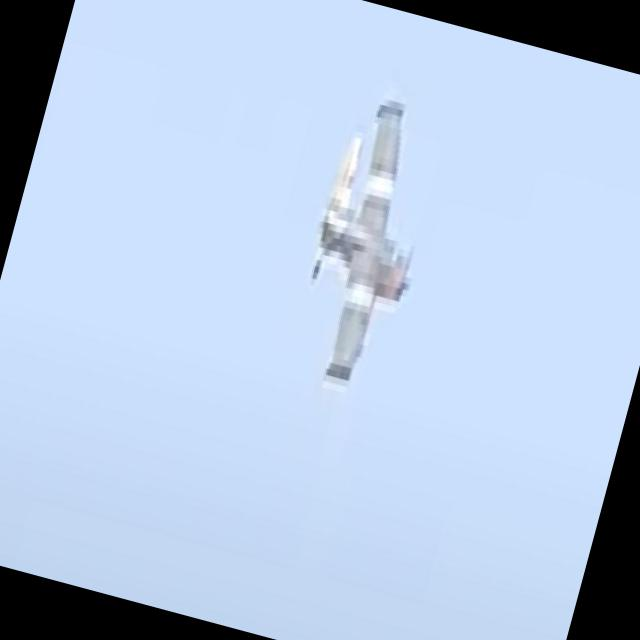UAV: (273, 64, 455, 399)
